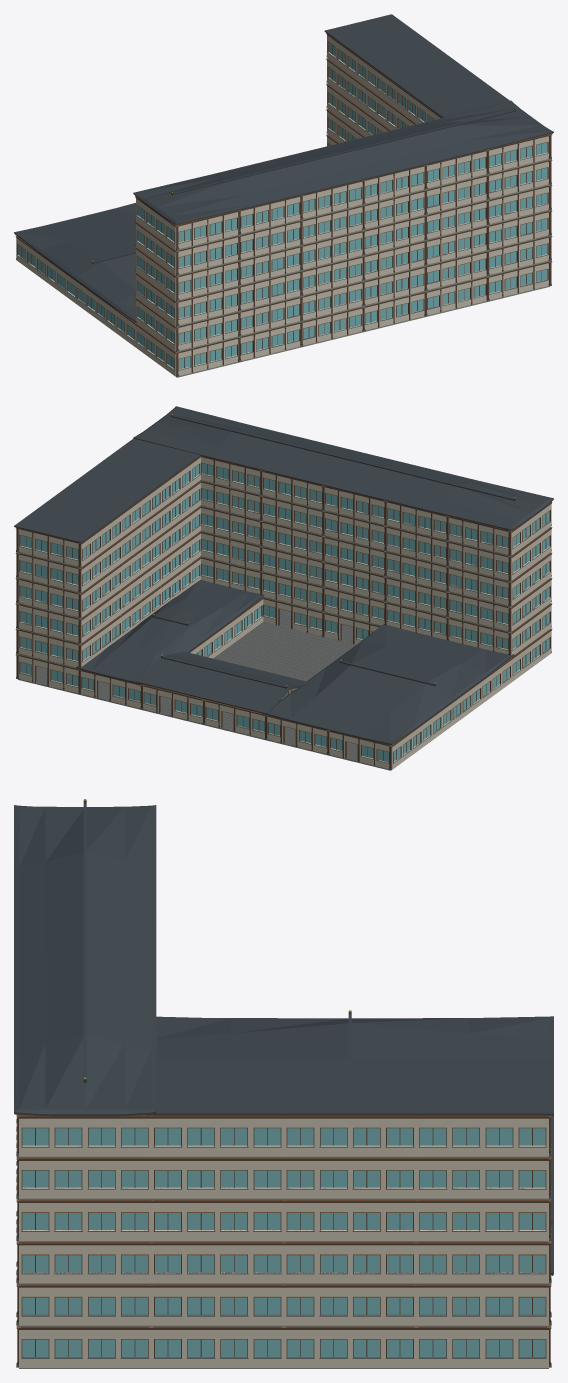
File: visual-far.glb
3 renders of one model, top to bottom at view 1: azimuth 30°, elevation 25°; view 2: azimuth 150°, elevation 25°; view 3: azimuth 270°, elevation 25°, orthographic. The views are drawn at different scales.
Parts seen in each view (by area): view 1: 参数墙 · 独立窗玻璃 (×52), 连续屋面 · hip (×2), 连续屋面 · flat; view 2: 参数墙 · 独立窗玻璃 (×56), 连续屋面 · hip (×3), 参数墙 · 通行门洞 (×8), 连续屋面 · flat, 连续屋面 · gable, 石铺面与混凝土楼板 (×3); view 3: 参数墙 · 独立窗玻璃 (×24), 连续屋面 · hip (×2), 连续屋面 · flat.
Part boxes in pixels (x1,y1,x2,y2): 参数墙 · 独立窗玻璃 (×52): (16,34,549,376); 连续屋面 · hip (×2): (14,100,553,323); 连续屋面 · flat: (324,14,509,117); 参数墙 · 独立窗玻璃 (×56): (18,456,551,769); 连续屋面 · hip (×3): (76,406,553,745); 参数墙 · 通行门洞 (×8): (18,597,389,768); 连续屋面 · flat: (14,438,200,543); 连续屋面 · gable: (138,651,308,714); 石铺面与混凝土楼板 (×3): (213,622,356,673); 参数墙 · 独立窗玻璃 (×24): (19,1115,548,1367); 连续屋面 · hip (×2): (14,799,553,1117); 连续屋面 · flat: (146,1059,553,1115).
Bounding box in the file's own units: 59.2 × 25.08 × 44.
18 materials, 18 textured.
